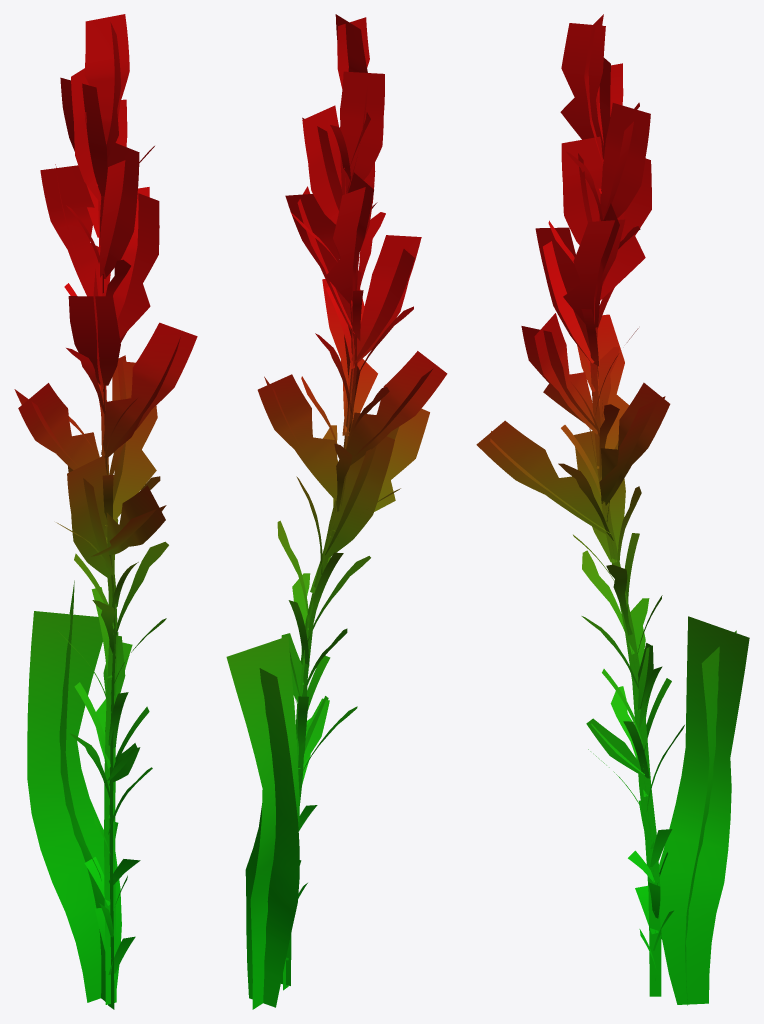
File: F01_Seaweed_04.fbx
The picture shows the model from 3 angles, left to right: view 1: azimuth 30°, elevation 25°; view 2: azimuth 150°, elevation 25°; view 3: azimuth 270°, elevation 25°; orthographic projection. The views are drawn at different scales.
Parts seen in each view (by area): view 1: _5479_Var4_LOD0; view 2: _5479_Var4_LOD0; view 3: _5479_Var4_LOD0.
Part boxes in pixels (left/top/right/bottom): _5479_Var4_LOD0: left=14, top=14, right=197, bottom=1009; _5479_Var4_LOD0: left=226, top=14, right=447, bottom=1009; _5479_Var4_LOD0: left=476, top=14, right=749, bottom=1005.
Size of the model in its own units: 15.58 by 92.9 by 23.77.
